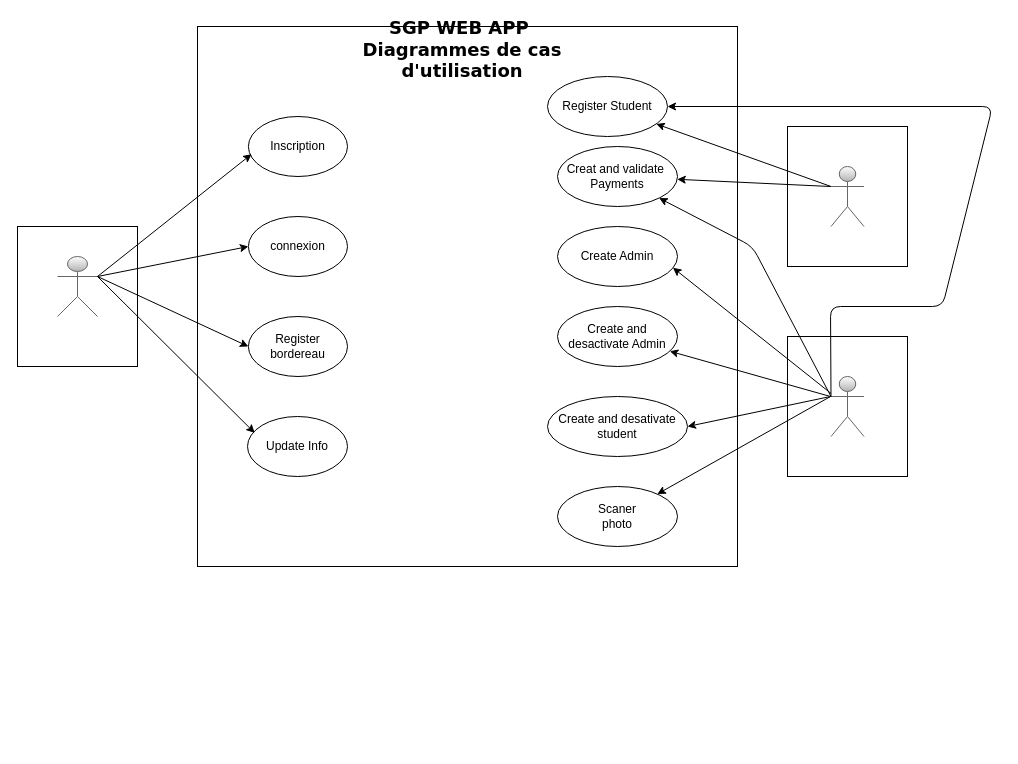
The diagram is 1018 pixels wide and 764 high, and some of its shapes have lost their labels. The shapes that lost their labels are listed below. From the top down, each one's box as (x1, y1, x2, y2) in pixels, then its label:
(830, 166, 864, 226): Admin
(56, 256, 98, 316): Etudiant
(830, 376, 864, 436): SuperAdmin
